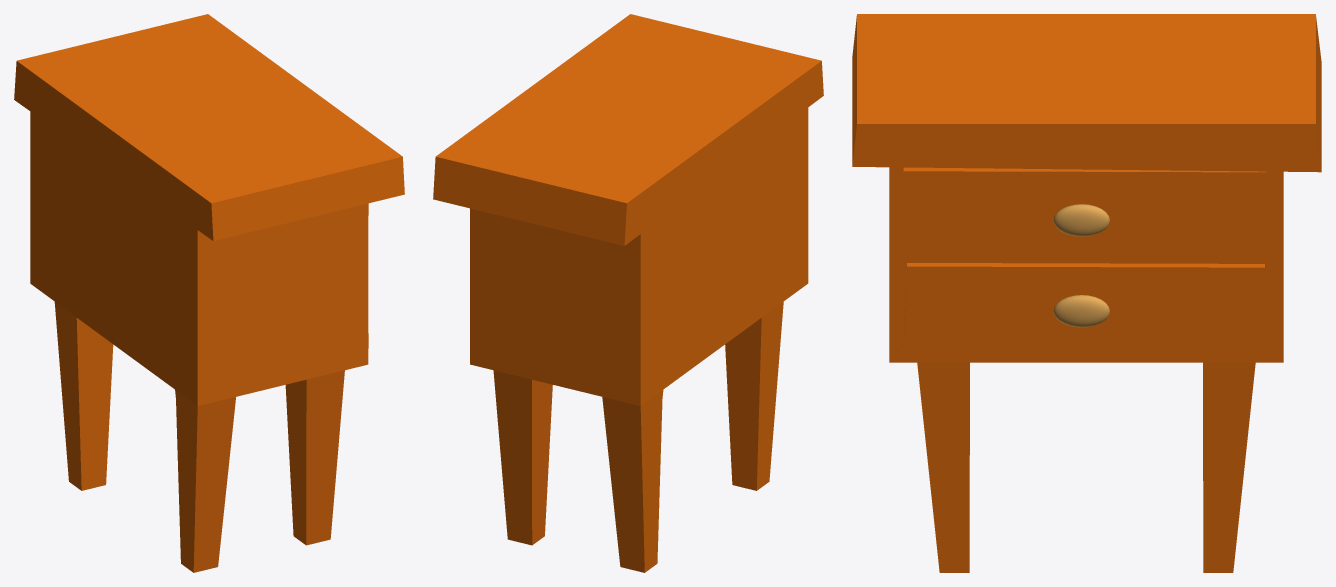
Rendered from Table.glb.
The picture shows the model from 3 angles, left to right: view 1: azimuth 30°, elevation 25°; view 2: azimuth 150°, elevation 25°; view 3: azimuth 270°, elevation 25°; orthographic projection. The views are drawn at different scales.
Parts seen in each view (by area): view 1: Nightstand; view 2: Nightstand; view 3: Nightstand, Box3_1, Box3_2.
Boxes of the visible parts, x1,y1,x2,y2 form: Nightstand: [14, 14, 404, 572]; Nightstand: [433, 14, 823, 572]; Nightstand: [852, 14, 1321, 572]; Box3_1: [903, 263, 1267, 354]; Box3_2: [903, 167, 1267, 260].
Bounding box in the file's own units: 0.4962 × 0.9766 × 0.8831.
Materials: 2 (1 with a texture image).
